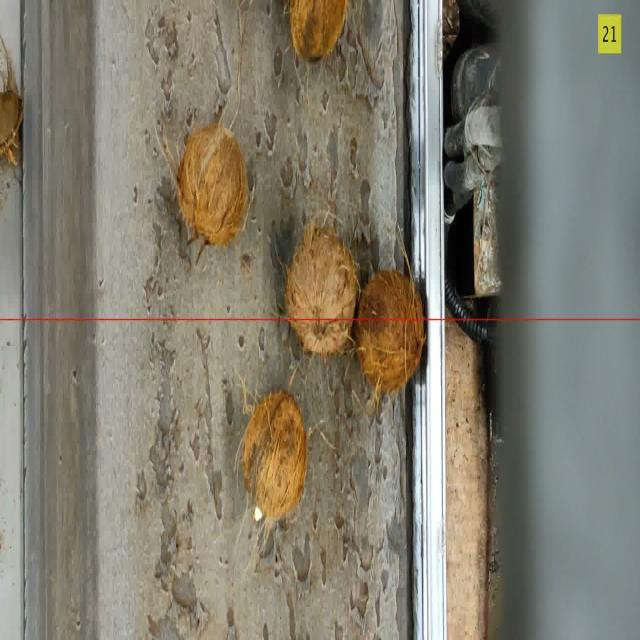Coconut-Conveyor-Belt: (242, 392, 311, 522), (360, 268, 430, 386), (179, 127, 246, 243), (288, 237, 357, 343), (290, 6, 343, 61)
